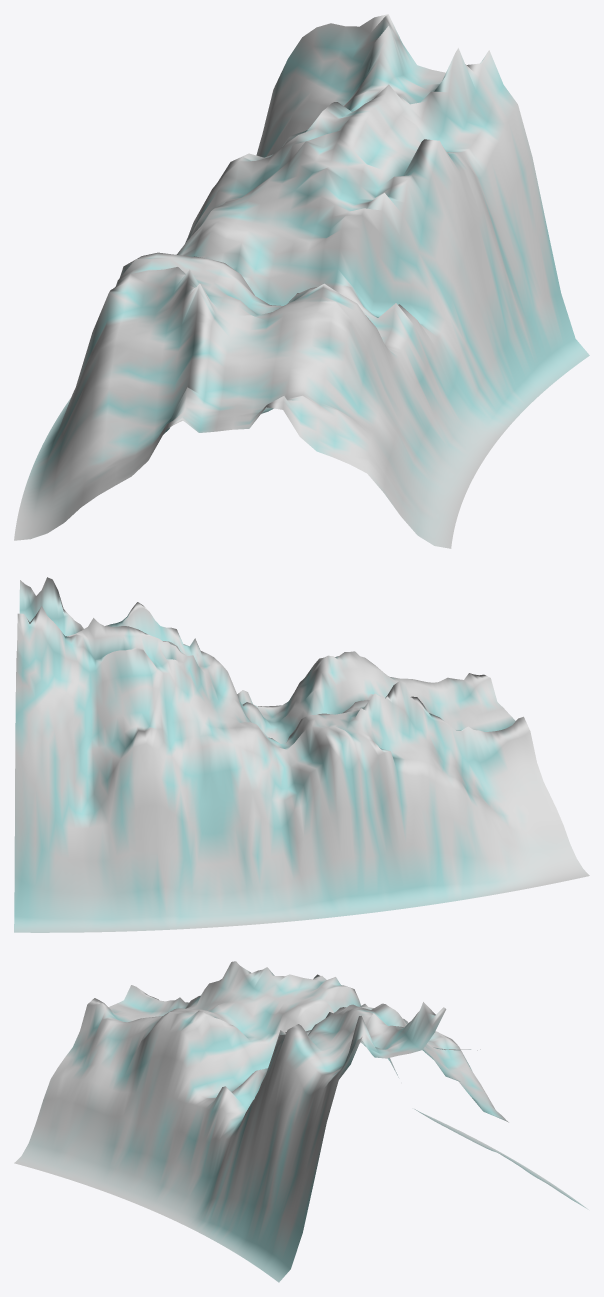
Rendered from far_2.glb.
The picture shows the model from 3 angles, top to bottom: view 1: azimuth 30°, elevation 25°; view 2: azimuth 150°, elevation 25°; view 3: azimuth 270°, elevation 25°; orthographic projection. The views are drawn at different scales.
Visible parts, largest first — view 1: Mountain; view 2: Mountain; view 3: Mountain.
Boxes of the visible parts, x1=… form: Mountain: x1=14, y1=14, x2=589, y2=548; Mountain: x1=14, y1=577, x2=589, y2=932; Mountain: x1=14, y1=961, x2=588, y2=1282.
Bounding box in the file's own units: 1641 × 736 × 1623.
